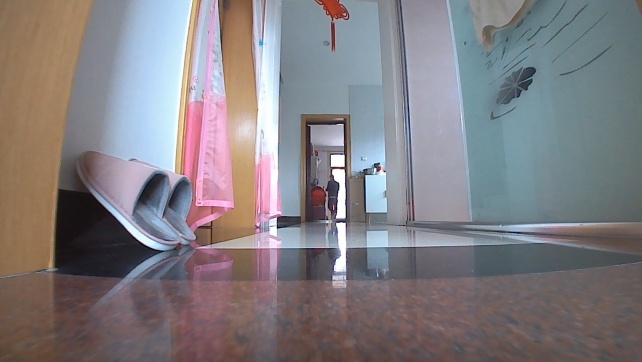shoe: (73, 148, 196, 253)
